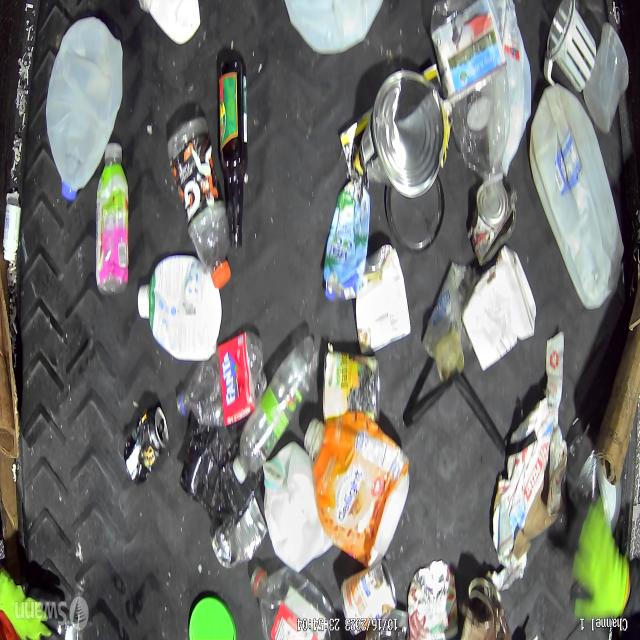can: (352, 70, 445, 200), (355, 245, 410, 354), (212, 490, 269, 569), (340, 560, 396, 637), (322, 350, 380, 422), (407, 560, 459, 640), (468, 181, 516, 267), (121, 407, 167, 483), (460, 574, 507, 640)
milk_jug: (528, 85, 620, 308), (46, 17, 124, 200), (262, 441, 333, 571), (281, 0, 391, 55), (502, 0, 532, 181)
non_white_jug: (308, 416, 407, 568), (136, 256, 221, 363), (323, 181, 370, 301)
plastic_bottle: (430, 0, 510, 195), (229, 340, 317, 480), (166, 118, 231, 288), (174, 334, 267, 428)
